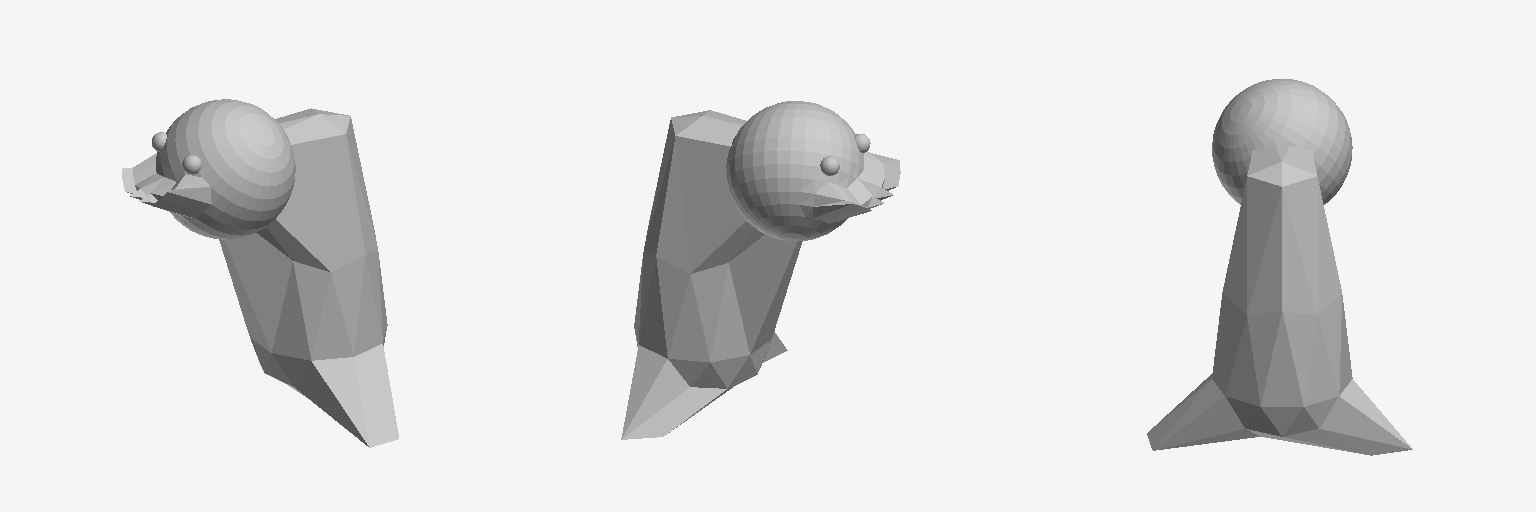
Rendered from cursed-totem.obj.
3 renders of one model, left to right at view 1: azimuth 30°, elevation 25°; view 2: azimuth 150°, elevation 25°; view 3: azimuth 270°, elevation 25°, orthographic.
Visible parts, largest first — view 1: Sphere; view 2: Sphere; view 3: Sphere.
Boxes of the visible parts, x1,y1,x2,y2 form: Sphere: [122, 99, 398, 447]; Sphere: [621, 101, 900, 439]; Sphere: [1147, 79, 1412, 455].
Size of the model in its own units: 4 by 4.91 by 3.79.